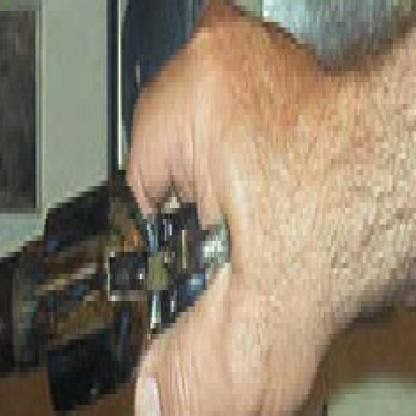gun: (0, 104, 257, 411)
